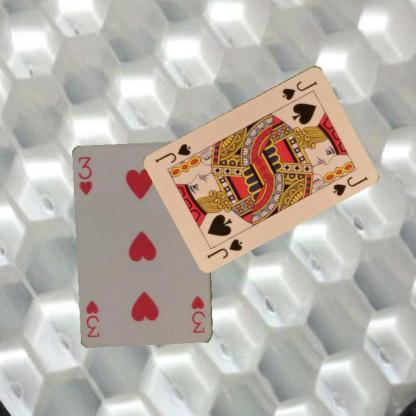3h: (189, 292, 207, 334), (76, 154, 94, 196)
Js: (204, 235, 244, 260), (279, 78, 319, 101)
